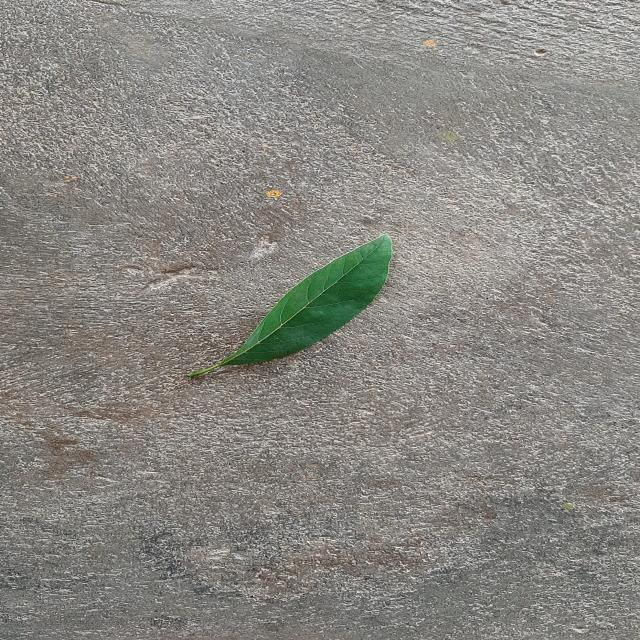seethaphala: (187, 235, 393, 378)
